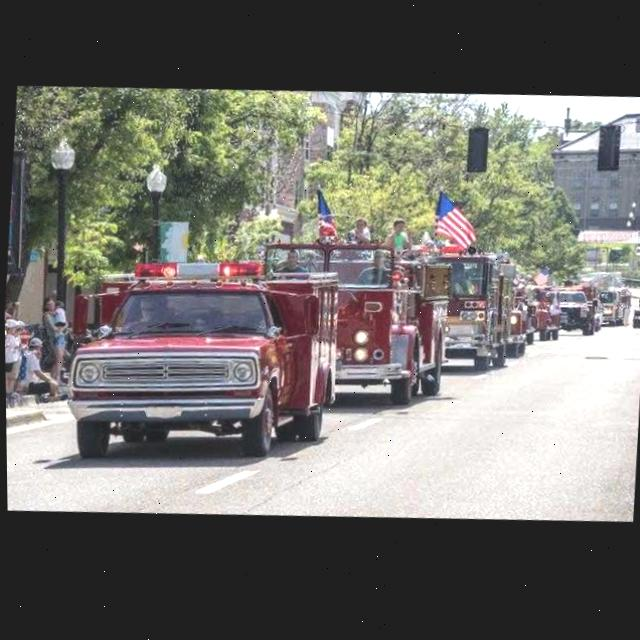emergency: (60, 247, 345, 476), (252, 234, 454, 418), (385, 241, 513, 377), (573, 274, 633, 336)
